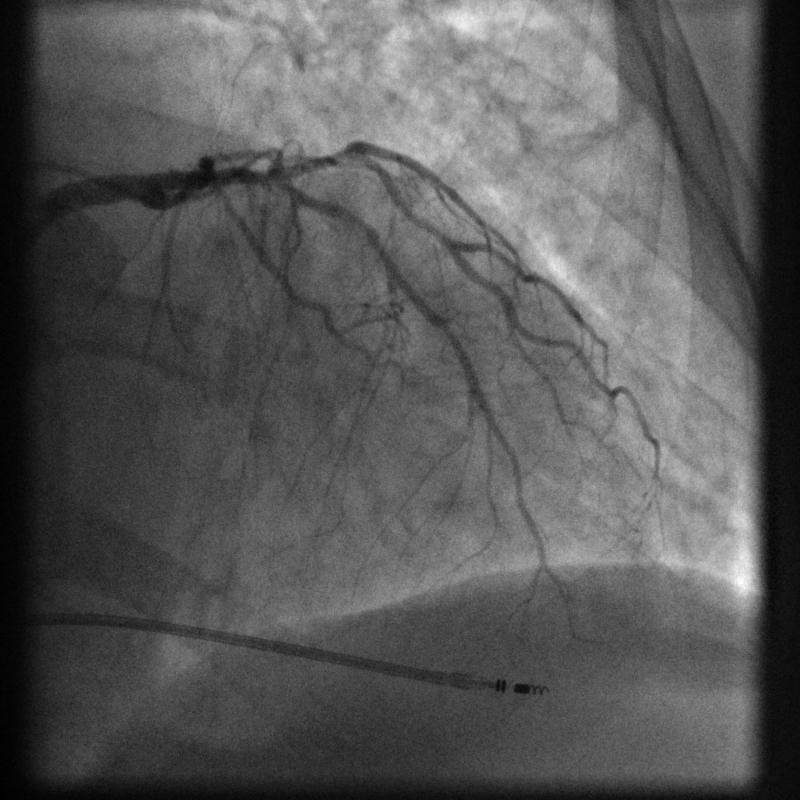Stenosis: (338, 203, 377, 246)
